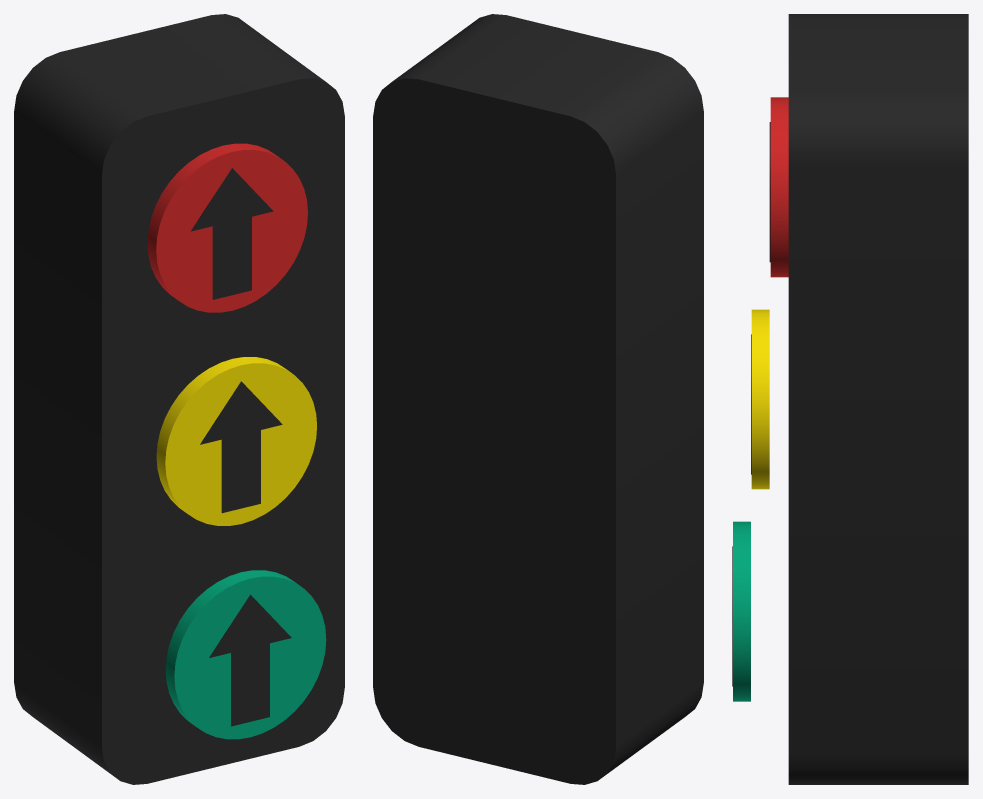
3 renders of one model, left to right at view 1: azimuth 30°, elevation 25°; view 2: azimuth 150°, elevation 25°; view 3: azimuth 270°, elevation 25°, orthographic. The views are drawn at different scales.
Parts seen in each view (by area): view 1: R16_r00, R16_d250, R16_d302, R16_d276, R16_s275, R16_s301, R16_s327; view 2: R16_r00; view 3: R16_r00, R16_d250, R16_d276, R16_d302.
Boxes of the visible parts, <box> form: R16_r00: <box>14,14,344,784</box>; R16_d250: <box>147,143,307,312</box>; R16_d302: <box>165,570,326,739</box>; R16_d276: <box>156,357,316,525</box>; R16_s275: <box>191,168,273,299</box>; R16_s301: <box>200,381,282,513</box>; R16_s327: <box>209,594,291,726</box>; R16_r00: <box>373,14,703,784</box>; R16_r00: <box>788,14,968,784</box>; R16_d250: <box>770,97,788,277</box>; R16_d276: <box>751,309,769,489</box>; R16_d302: <box>733,521,750,701</box>.
Size of the model in its own units: 0.16 by 0.42 by 0.1312.
